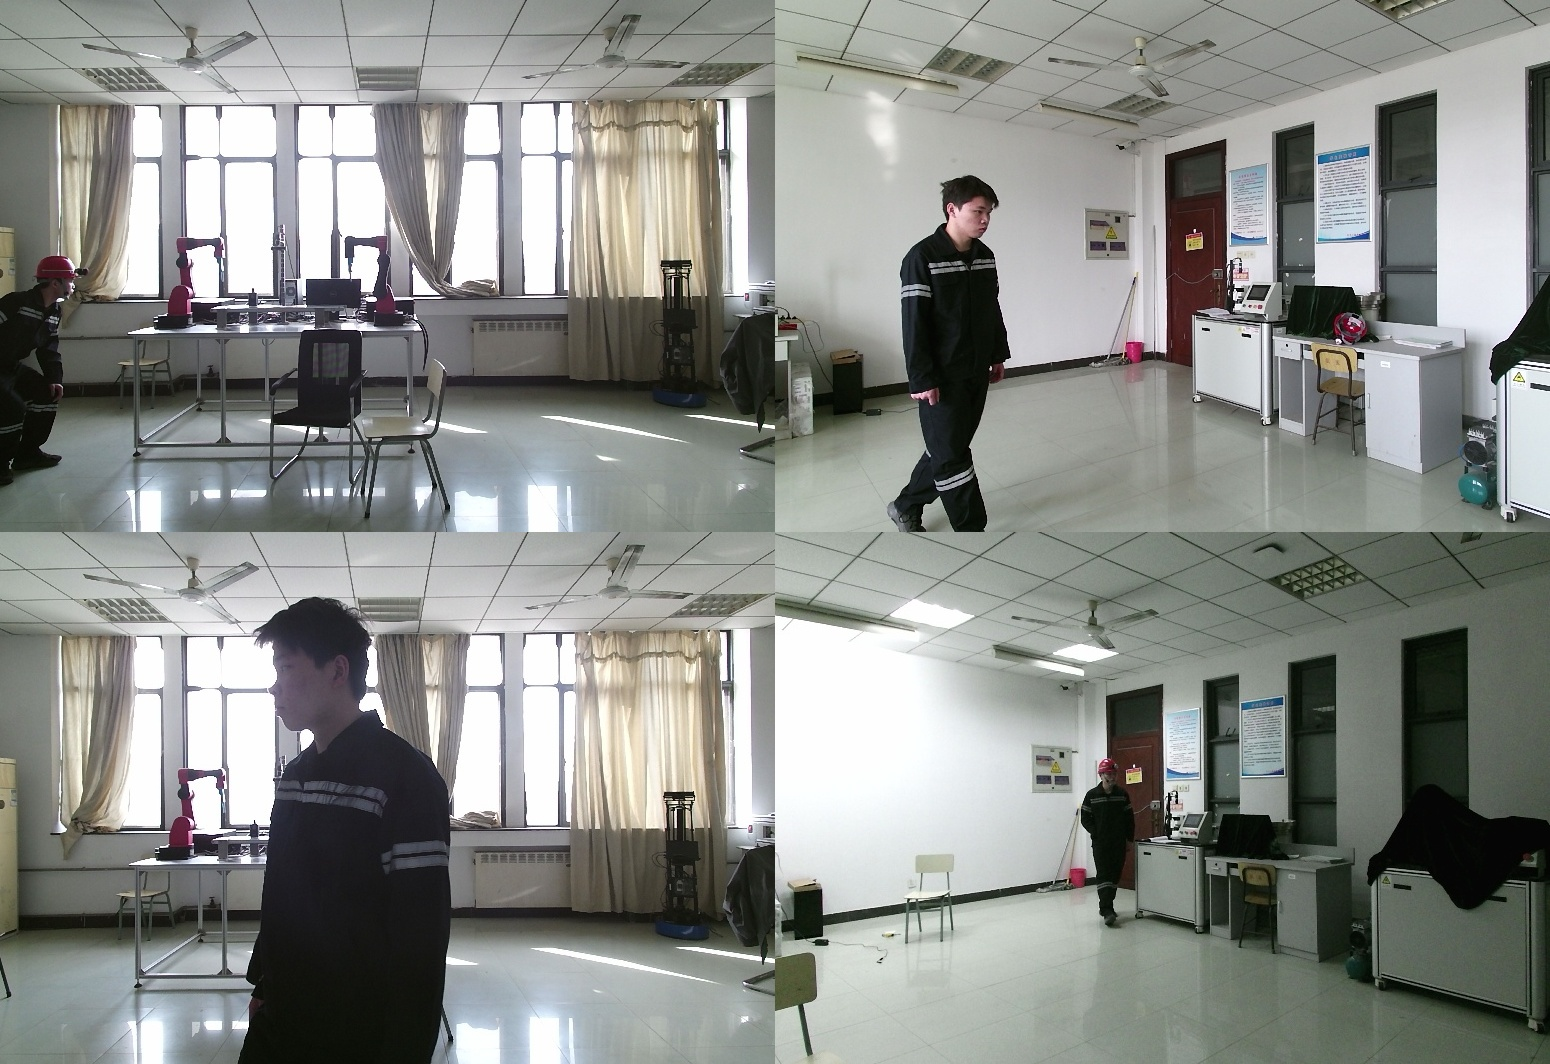person: (250, 596, 496, 1064), (885, 175, 1016, 532), (2, 257, 83, 483), (1078, 759, 1139, 929)
